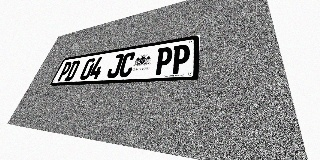0: (79, 58, 96, 80)
4: (88, 56, 106, 79)
C: (117, 52, 137, 78)
D: (64, 60, 81, 81)
J: (106, 53, 124, 78)
P: (170, 44, 190, 74), (153, 46, 173, 75), (56, 61, 73, 81)
